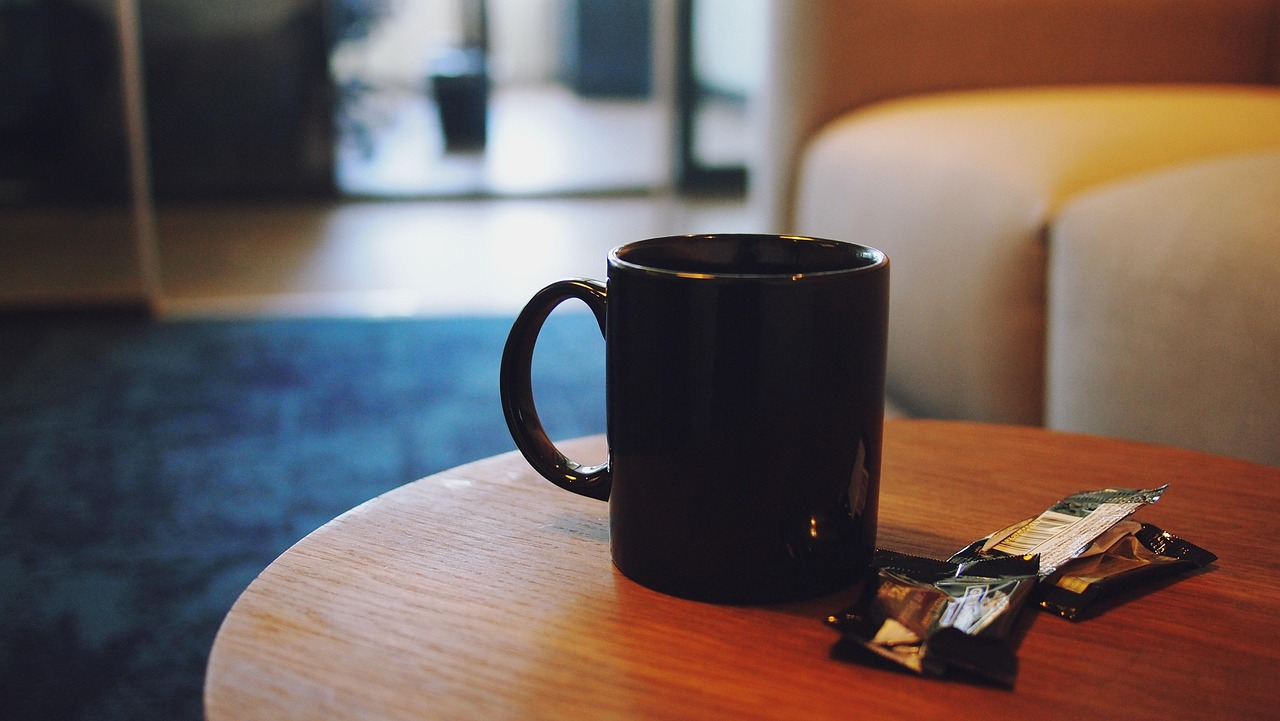mug: (458, 175, 972, 671)
